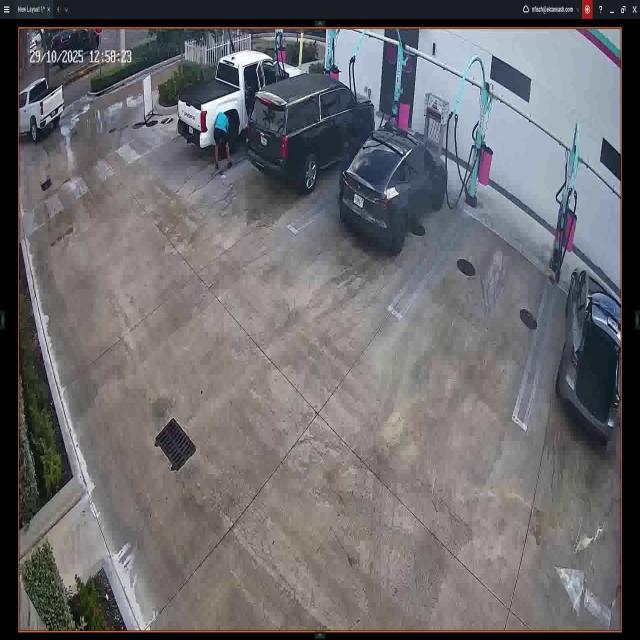Car: (342, 127, 448, 250), (250, 83, 374, 186), (178, 52, 304, 148), (563, 263, 621, 441), (19, 81, 64, 136)
